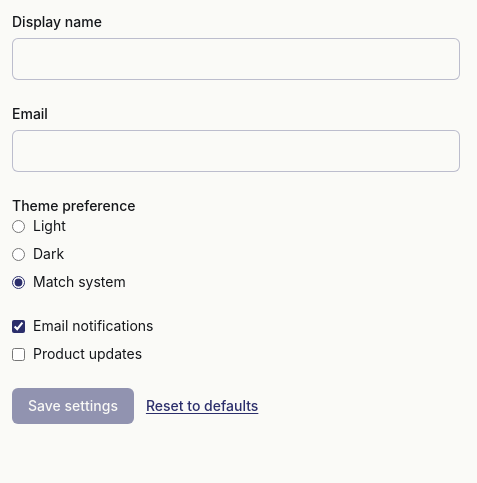
Scenario: SettingsForm › logs a new-setup activity entry on the first successful save
The image size is (477, 483).
In the field labelled "Display name": [236, 59] box x1=12 y1=38 x2=460 y2=80, type "Ada Lovelace"
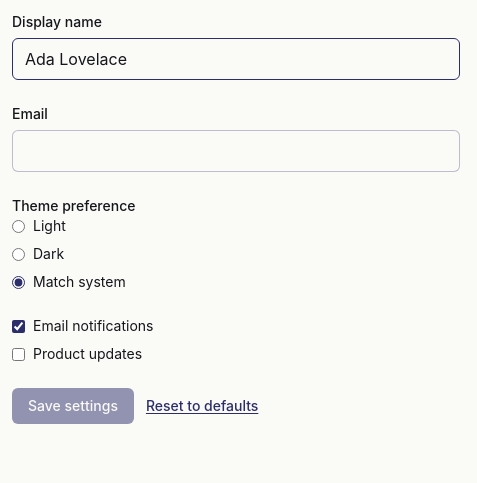
In the field labelled "Email": [236, 151] box x1=12 y1=130 x2=460 y2=172, type "ada@example.com"
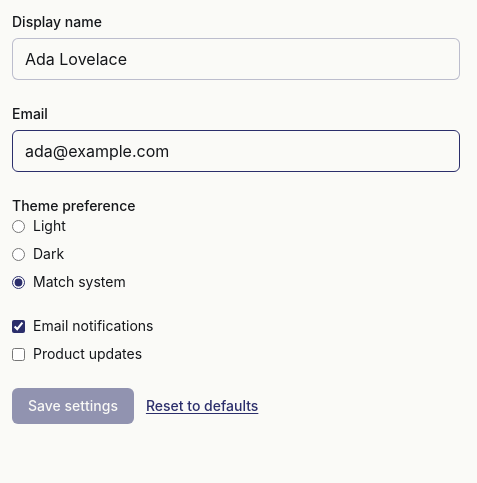
Press Tab
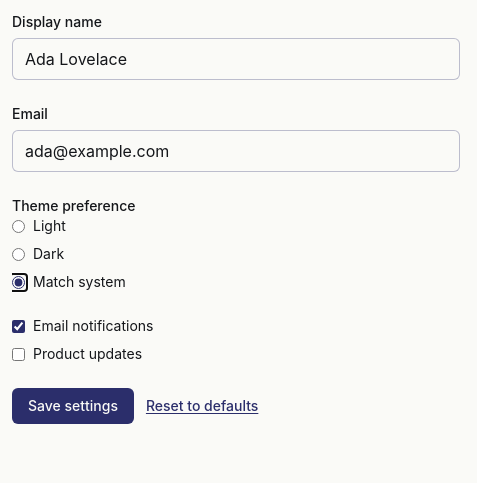
expect the button "Save settings" is enabled: met
Click the button "Save settings": [73, 406] box x1=12 y1=388 x2=134 y2=424
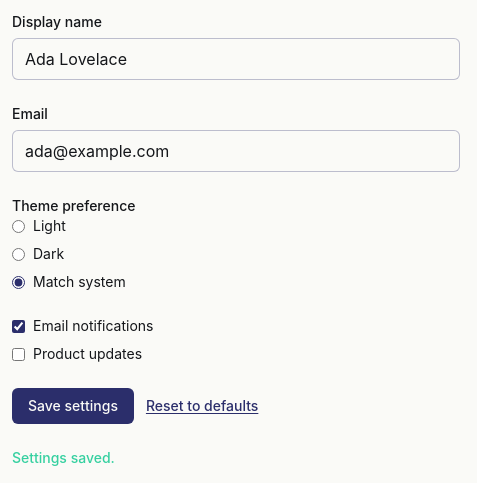
expect the message "Settings saved." is shown: met, box x1=12 y1=449 x2=115 y2=466
